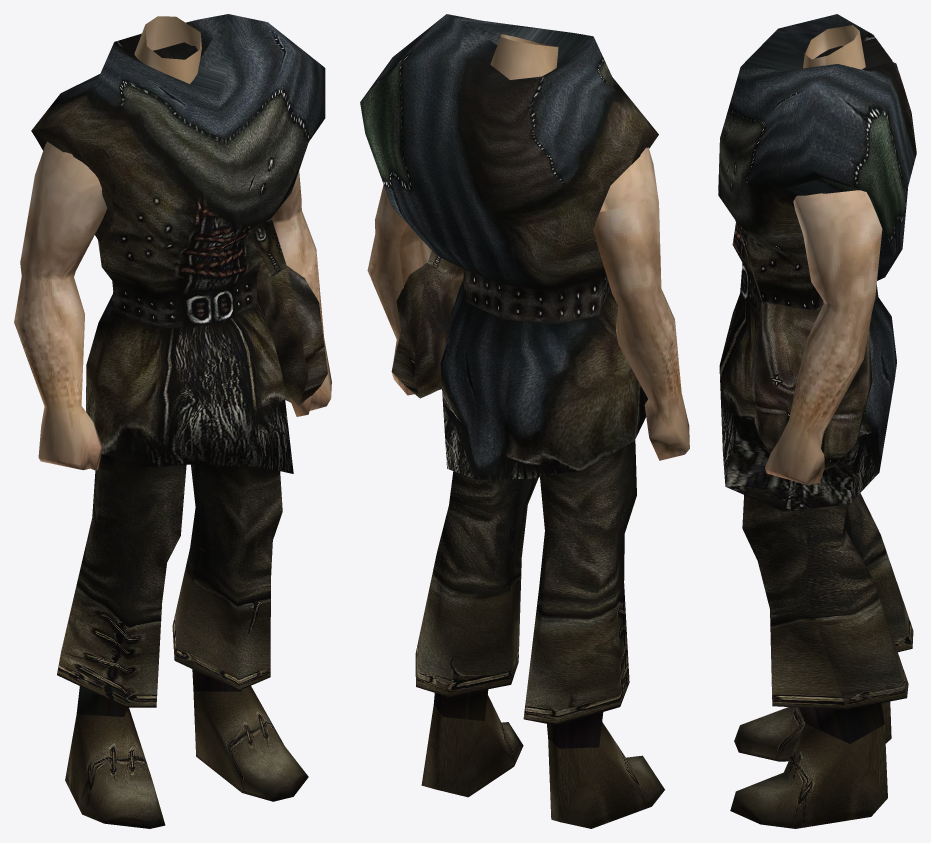
File: ARMOR_RANGERIST.glb
3 views of the same model, side by side, from view 1: azimuth 30°, elevation 25°; view 2: azimuth 150°, elevation 25°; view 3: azimuth 270°, elevation 25° (orthographic). The views are drawn at different scales.
Parts seen in each view (by area): view 1: ARMOR_RANGERIST; view 2: ARMOR_RANGERIST; view 3: ARMOR_RANGERIST.
Boxes of the visible parts, x1,y1,x2,y2 form: ARMOR_RANGERIST: [14, 14, 331, 828]; ARMOR_RANGERIST: [360, 14, 689, 828]; ARMOR_RANGERIST: [718, 14, 916, 828].
Size of the model in its own units: 0.6886 by 1.69 by 0.4057.
2 materials, 2 textured.
